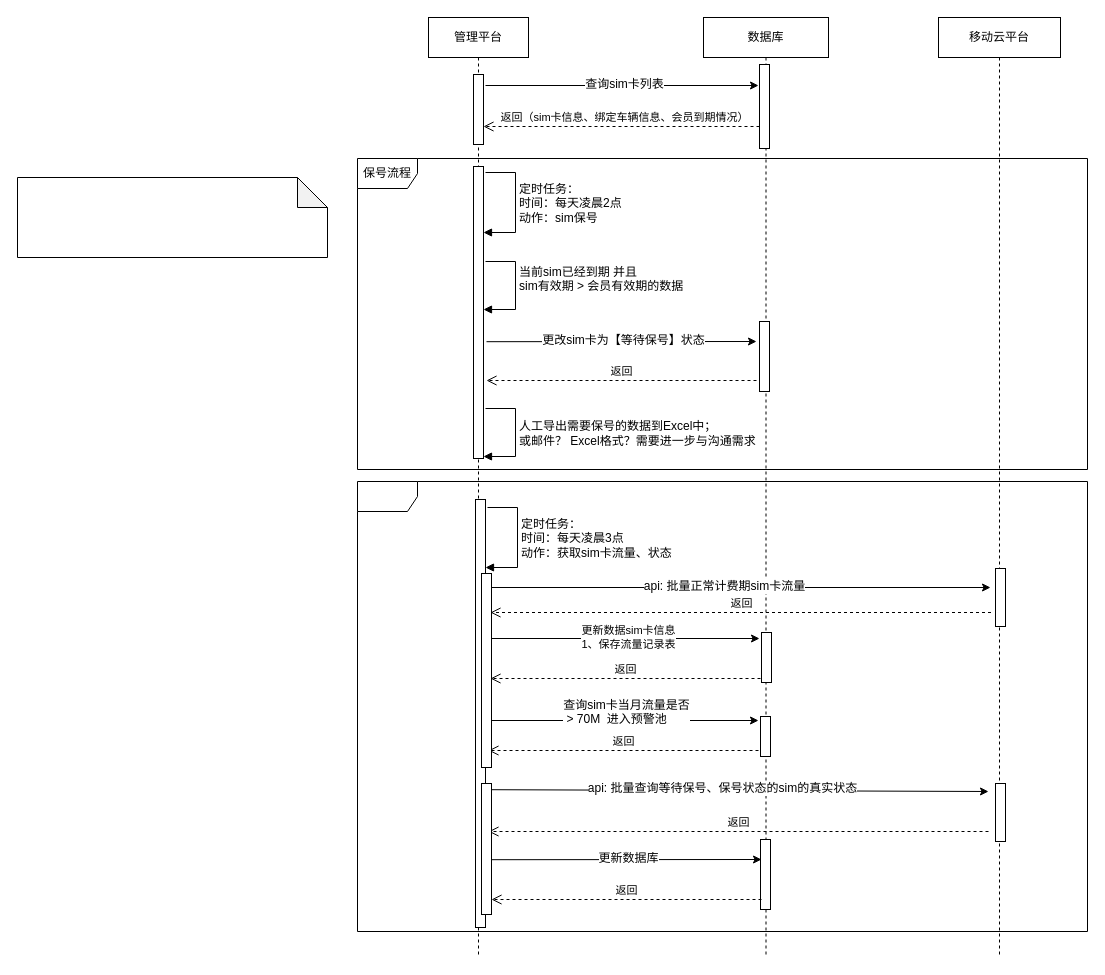
This 1105x975 diagram has some shape labels left out. Here are the shapes that lost their labels. From the top down, the centre of each, then its label:
At (172,217): "进一步需求：后续业务要统计每日gps数据，以及日志数据所需要的大小，在需要控制的时候， 可以关闭日志，保证用户的业务功能".
At (722,706): "获取卡状态".
